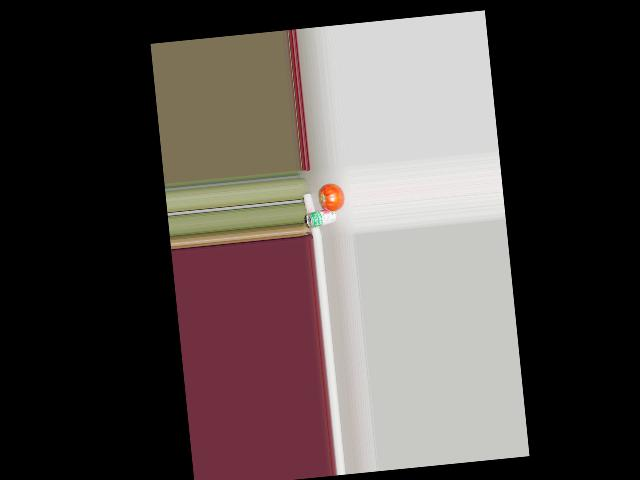tomato: (319, 182, 345, 211)
